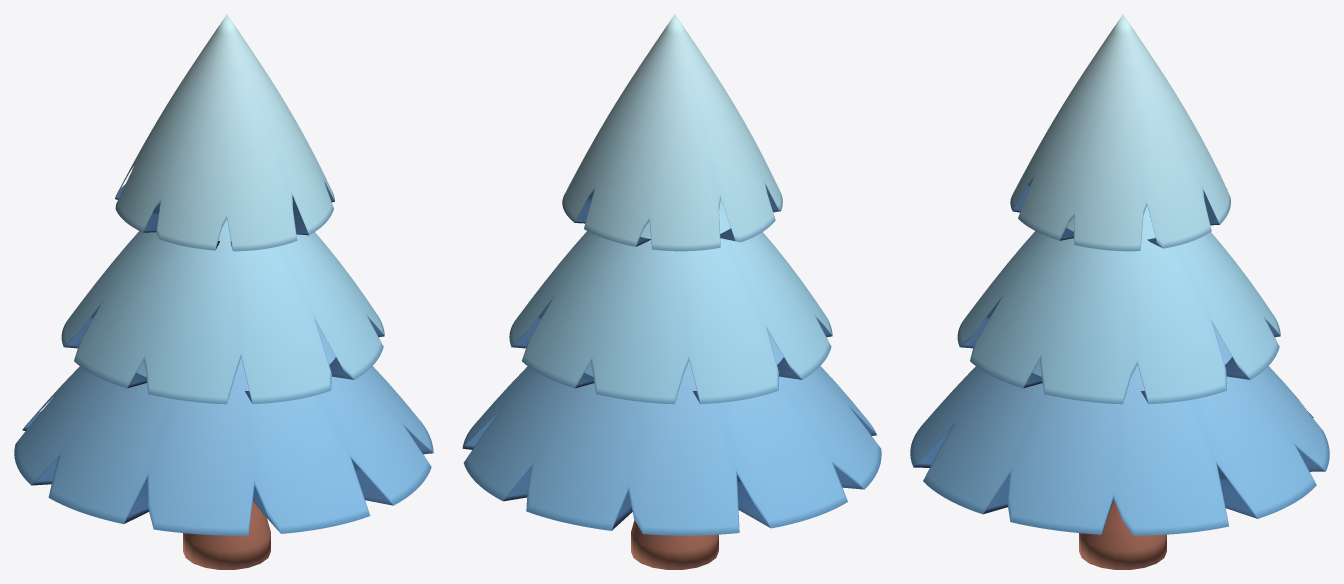
File: pine_2.glb
3 renders of one model, left to right at view 1: azimuth 30°, elevation 25°; view 2: azimuth 150°, elevation 25°; view 3: azimuth 270°, elevation 25°, orthographic.
Visible parts, largest first — view 1: pine_2; view 2: pine_2; view 3: pine_2.
Boxes of the visible parts, x1,y1,x2,y2 form: pine_2: [14, 14, 433, 569]; pine_2: [462, 14, 881, 569]; pine_2: [910, 14, 1329, 569].
Size of the model in its own units: 2.14 by 3.04 by 2.15.
Materials: 3 (3 with a texture image).
